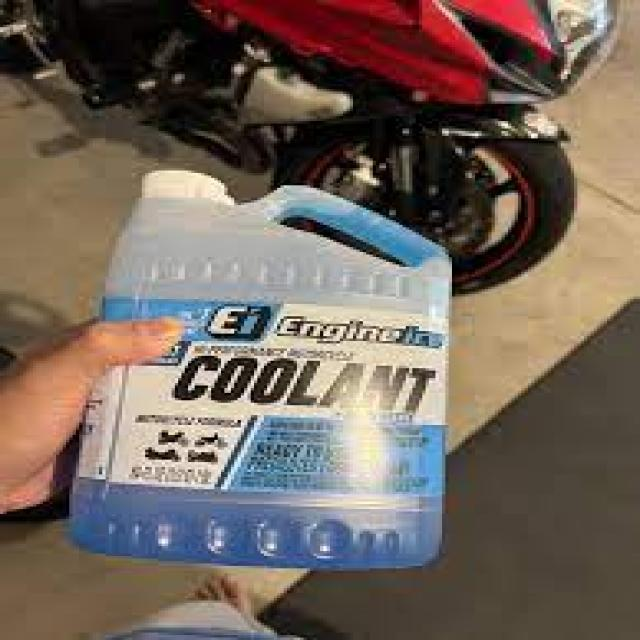coolant: (84, 168, 454, 573)
